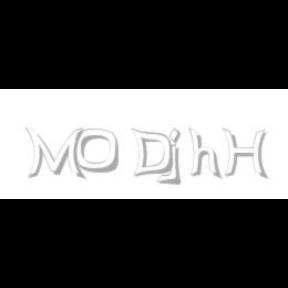D: (130, 128, 174, 178)
H: (222, 128, 268, 180)
M: (24, 128, 84, 180)
O: (74, 128, 120, 174)
h: (189, 128, 224, 180)
j: (166, 128, 196, 186)
